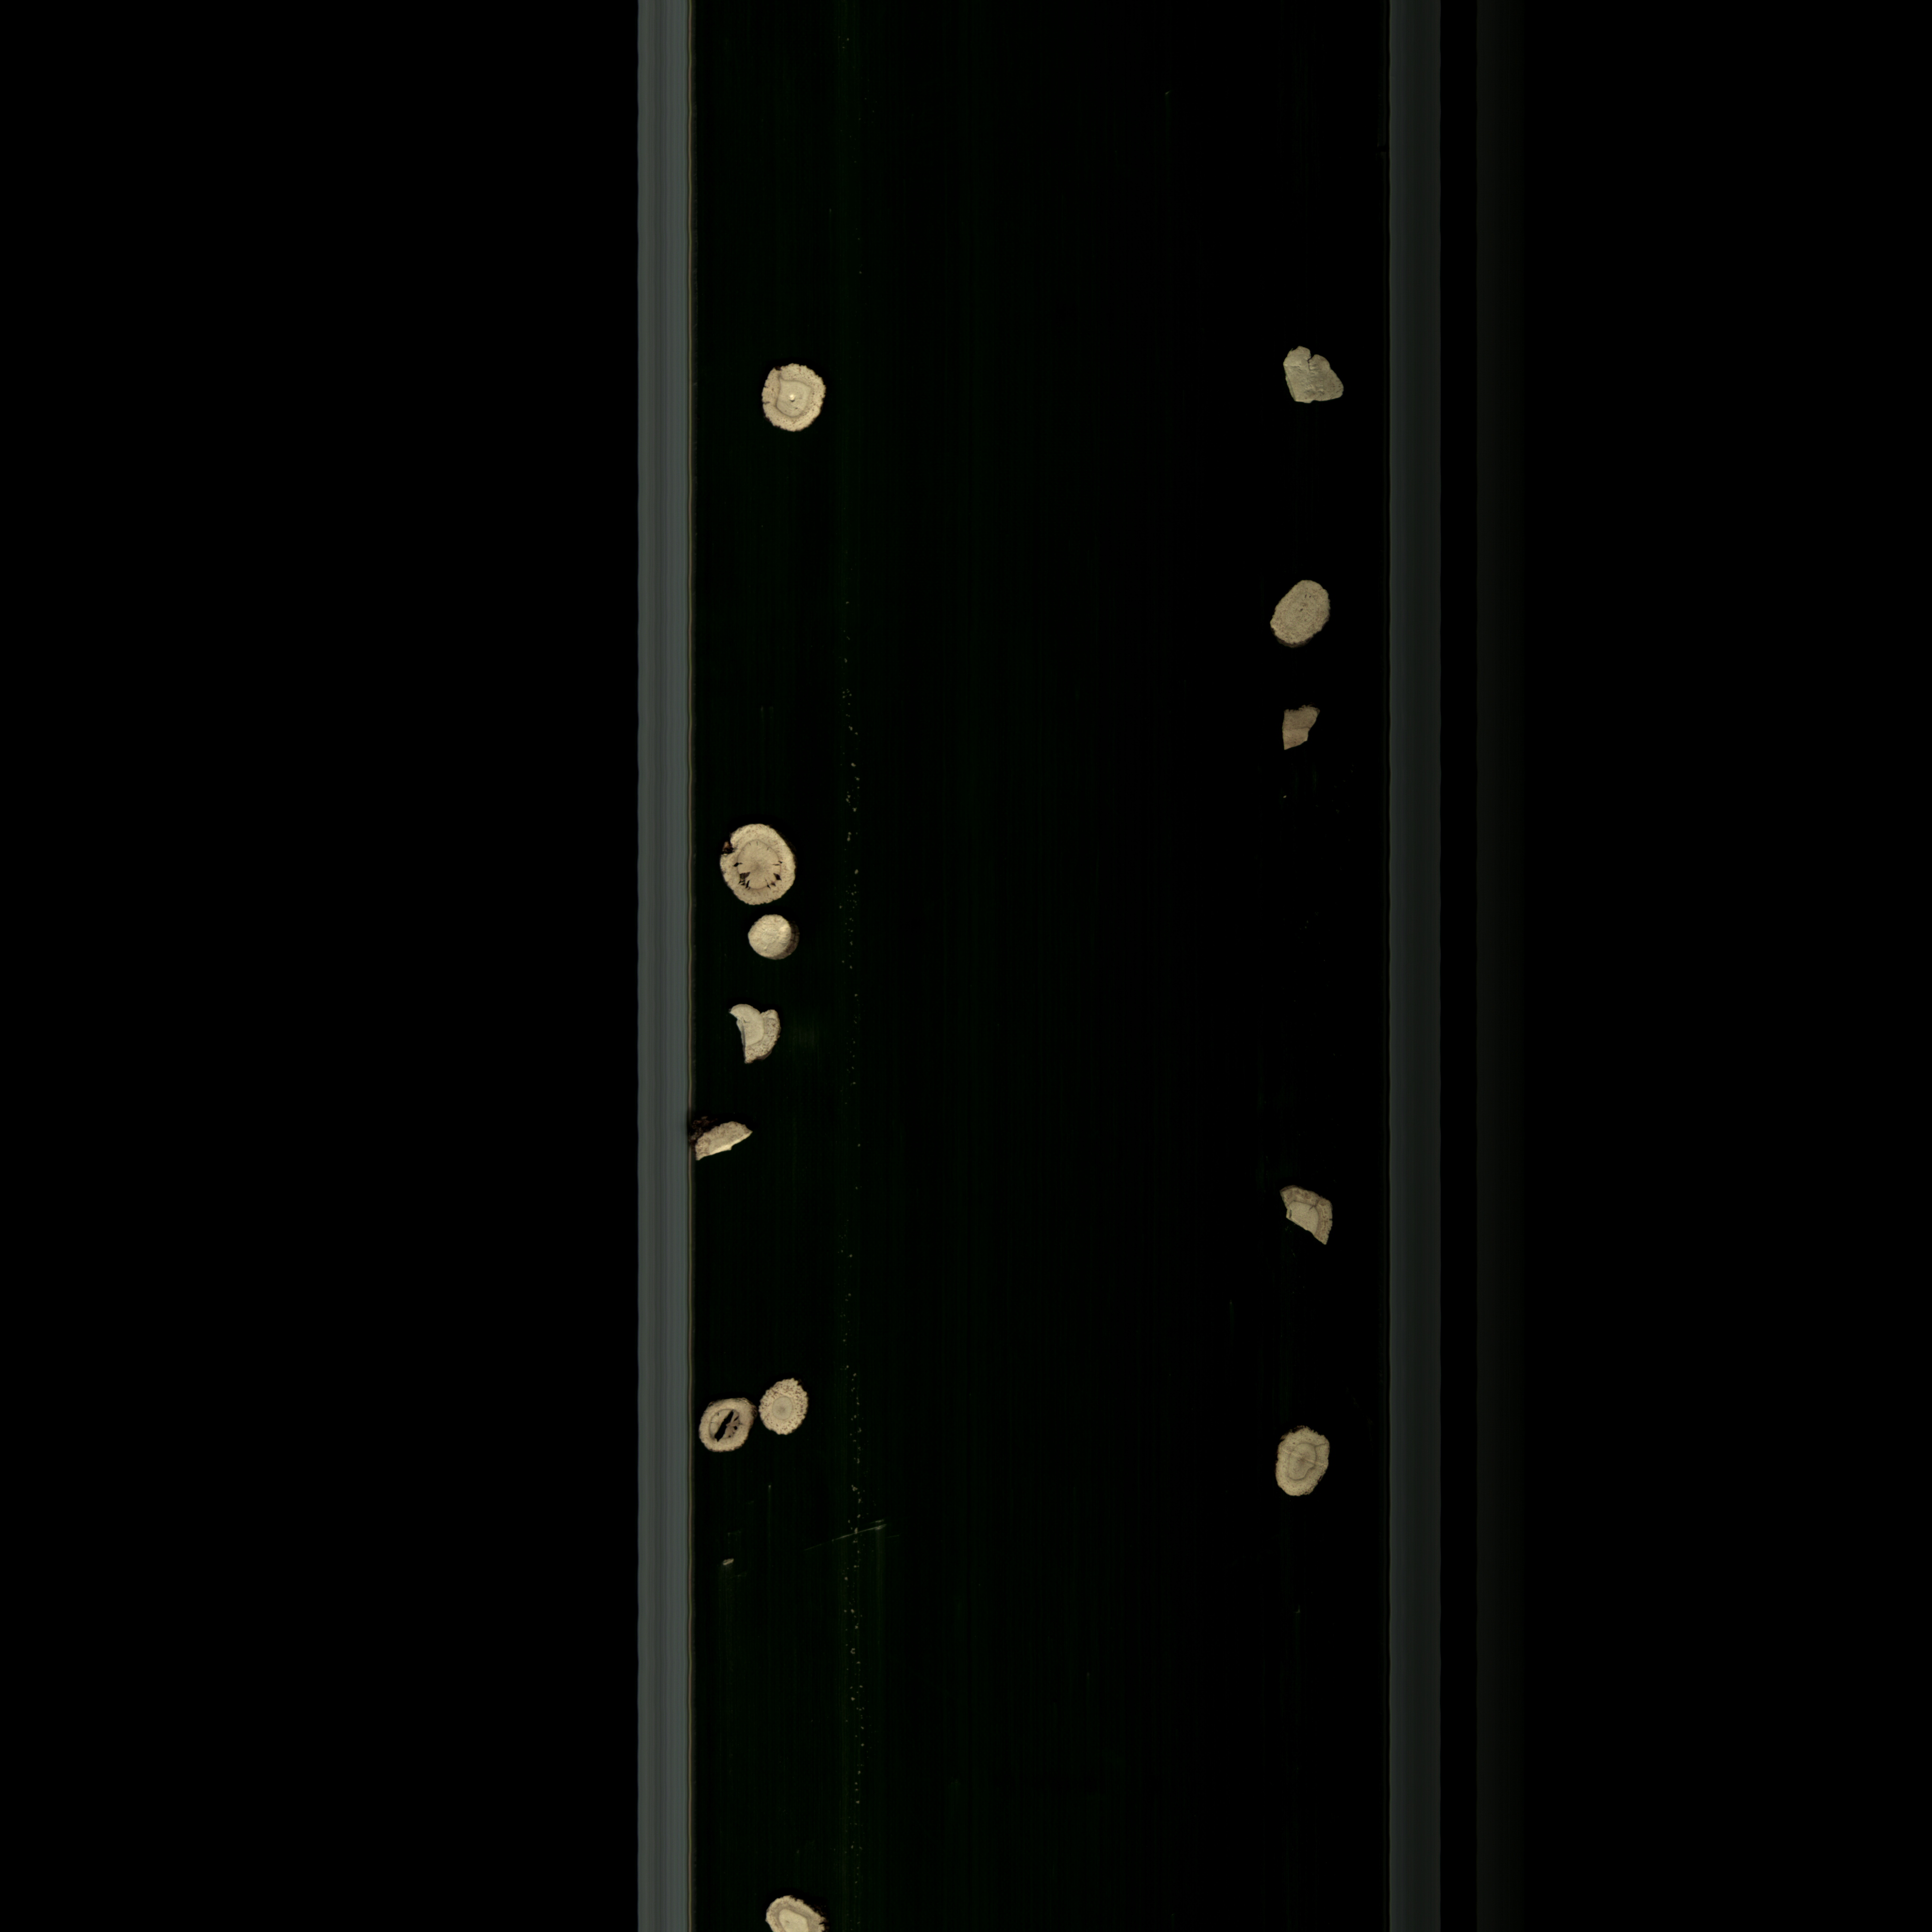debris: (1267, 333, 1355, 418), (1258, 1178, 1343, 1254), (725, 1000, 796, 1070)
distortion: (752, 357, 840, 441)
dreg: (683, 1106, 771, 1169), (1270, 694, 1330, 759)
hole: (708, 819, 812, 911), (692, 1391, 766, 1463)
moldy: (1265, 1419, 1338, 1504), (755, 1890, 837, 1932)
